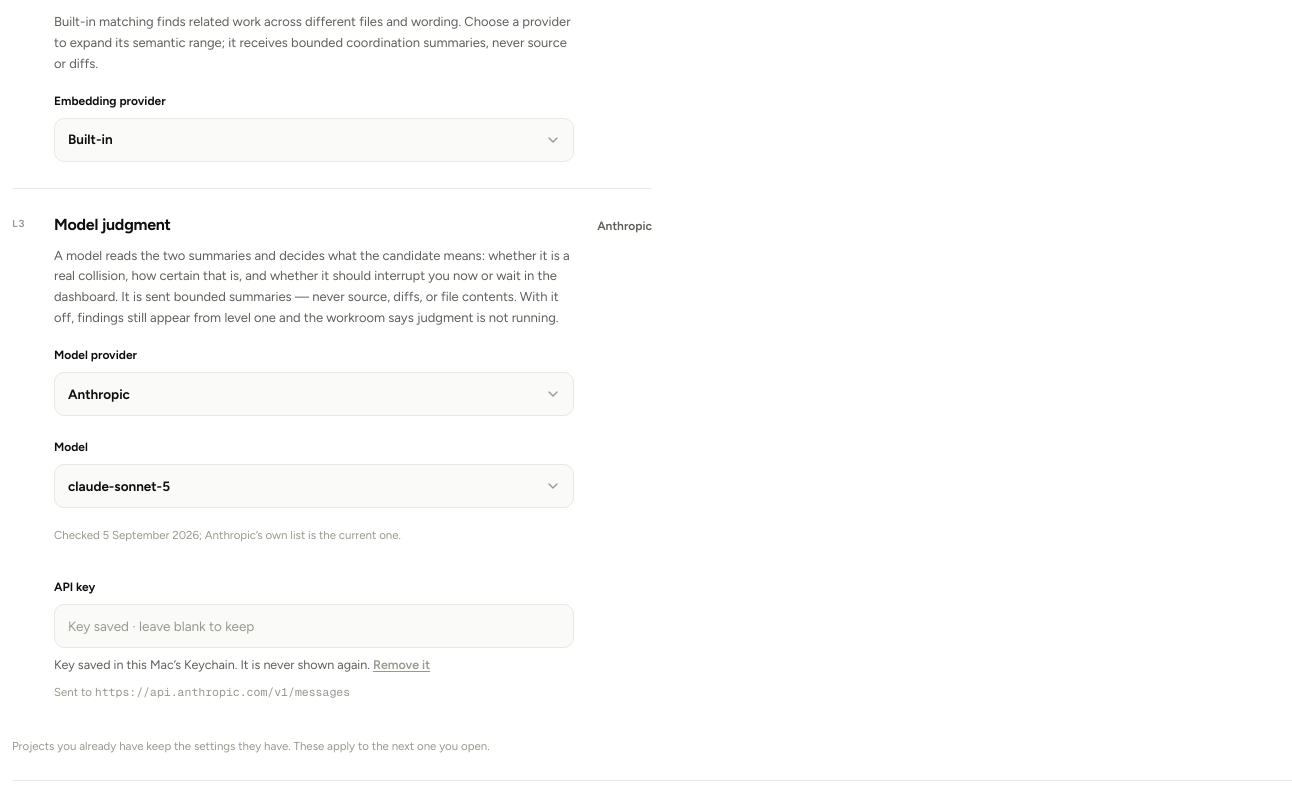
Test: choosing a provider › does not offer to keep a key once the destination has moved
(page scrolled)
Select "OpenAI" in the dropdown labelled "Model provider" at (314, 394), box [54,372,574,416]
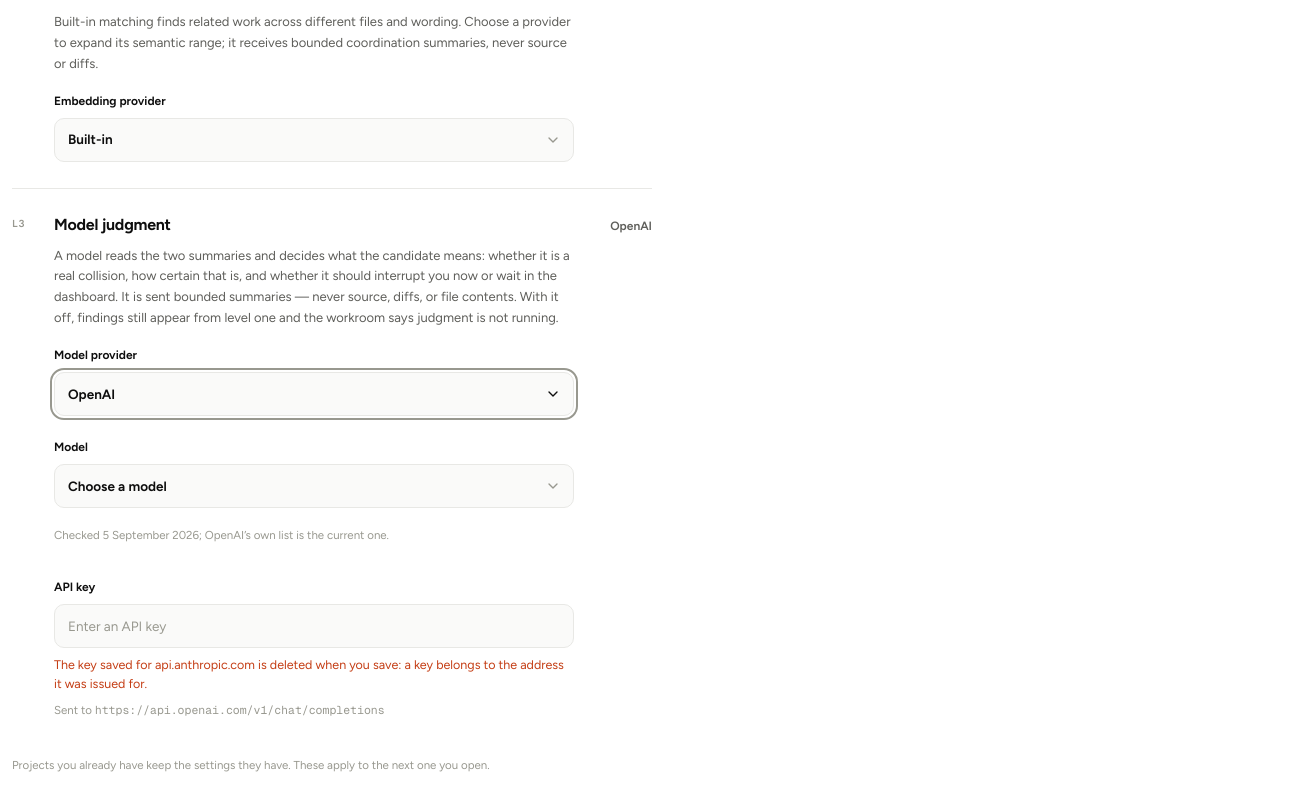
Result: the text "The key saved for api.anthropic.com is deleted when you save" is shown at [54,656,574,694]
